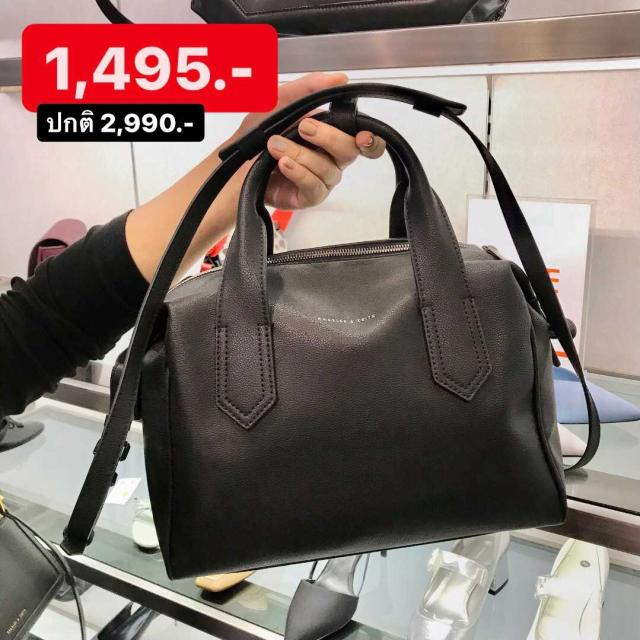handbag: (140, 108, 568, 582)
